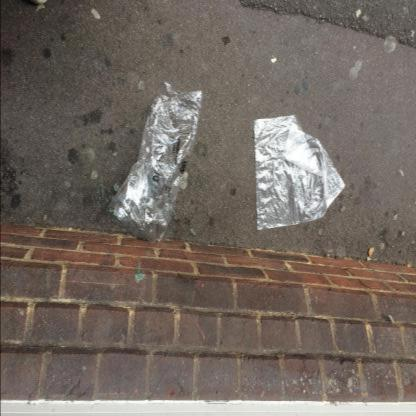Plastic bag - wrapper: (108, 82, 202, 245), (254, 115, 345, 230)
